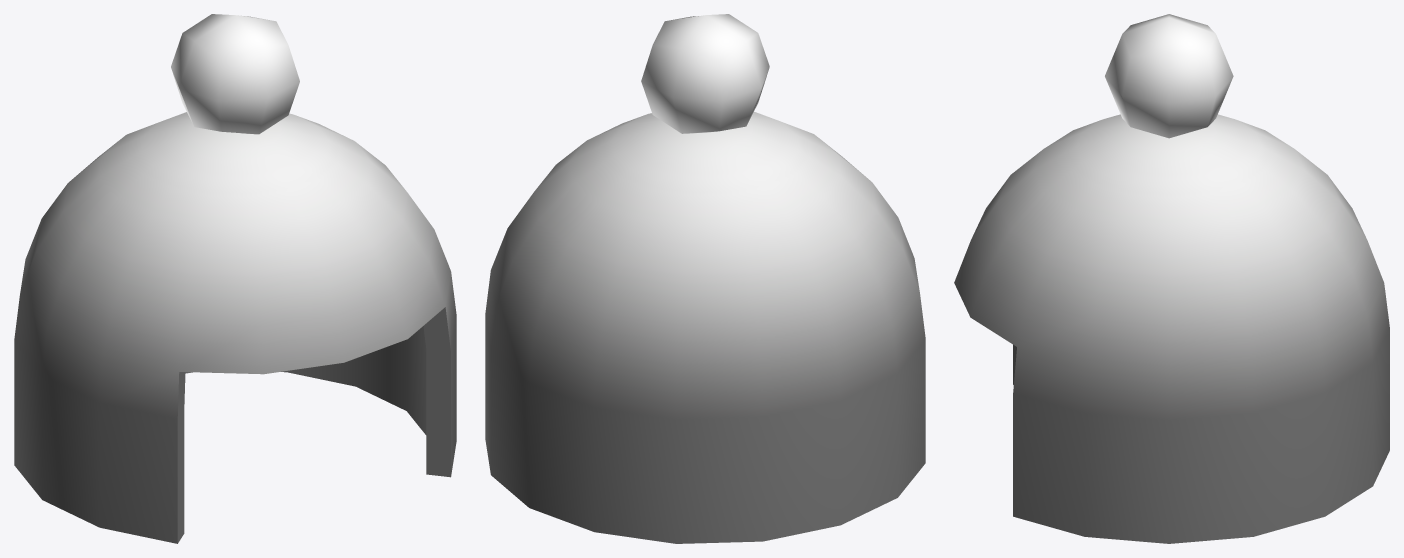
Rendered from Head_Prop_Helmet_Medieval_01.fbx.
3 renders of one model, left to right at view 1: azimuth 30°, elevation 25°; view 2: azimuth 150°, elevation 25°; view 3: azimuth 270°, elevation 25°, orthographic.
Parts seen in each view (by area): view 1: Head_Prop_Helmet_Medieval_01; view 2: Head_Prop_Helmet_Medieval_01; view 3: Head_Prop_Helmet_Medieval_01.
Boxes of the visible parts, box(x1,y1,x2,y2) form: Head_Prop_Helmet_Medieval_01: box(14, 14, 456, 543); Head_Prop_Helmet_Medieval_01: box(485, 14, 925, 543); Head_Prop_Helmet_Medieval_01: box(954, 14, 1389, 543).
Size of the model in its own units: 110 by 119 by 109.
